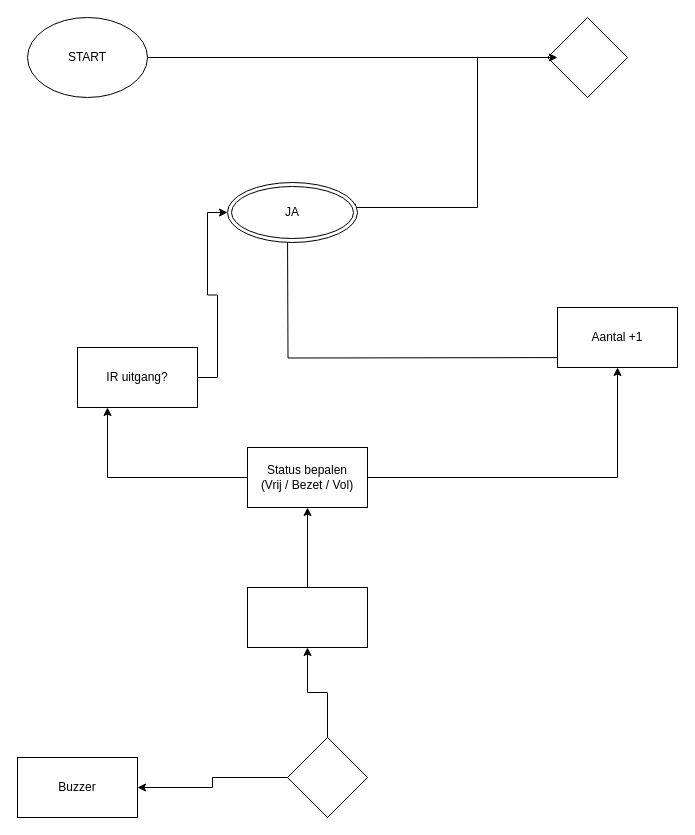
The diagram is 695 pixels wide and 835 high, and some of its shapes have lost their labels. The centre of each missing label's shape, as x and y in pixels:
"IR ingang?" belongs at point 587,57.
"LED + LCD aanpassen" belongs at point 307,617.
"Te luid?" belongs at point 327,777.
